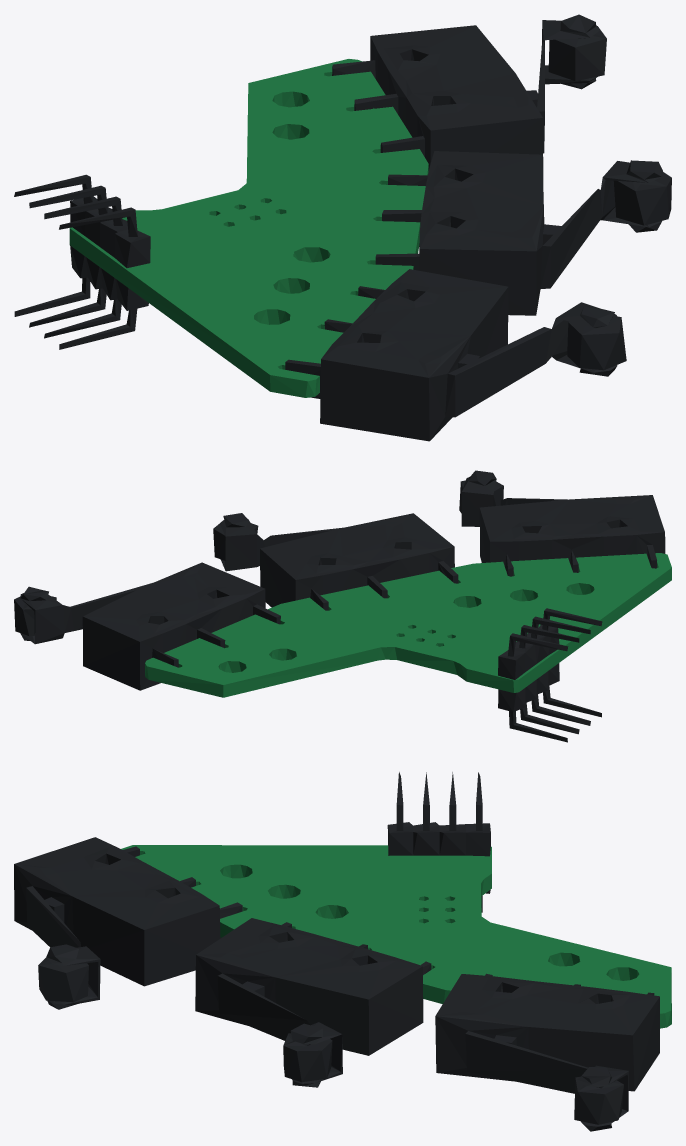
Rendered from bumper.glb.
3 views of the same model, one above another, from view 1: azimuth 30°, elevation 25°; view 2: azimuth 150°, elevation 25°; view 3: azimuth 270°, elevation 25° (orthographic). The views are drawn at different scales.
Visible parts, largest first — view 1: mesh_rubber_and_chip_3, mesh_pcb_3; view 2: mesh_rubber_and_chip_3, mesh_pcb_3; view 3: mesh_rubber_and_chip_3, mesh_pcb_3.
Part boxes in pixels (x1=…): mesh_rubber_and_chip_3: x1=14, y1=14, x2=671, y2=441; mesh_pcb_3: x1=69, y1=59, x2=428, y2=397; mesh_rubber_and_chip_3: x1=14, y1=470, x2=665, y2=742; mesh_pcb_3: x1=145, y1=553, x2=671, y2=697; mesh_rubber_and_chip_3: x1=14, y1=772, x2=659, y2=1131; mesh_pcb_3: x1=121, y1=845, x2=671, y2=1028.
Bounding box in the file's own units: 0.6437 × 0.1177 × 0.6324.
